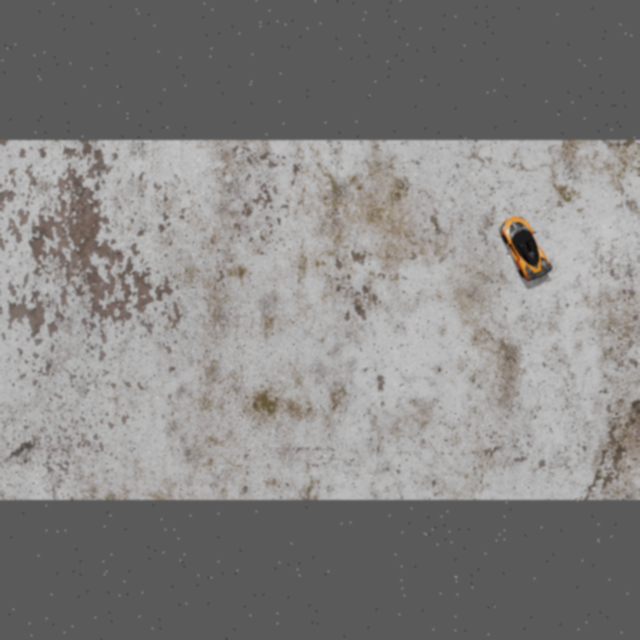car: (494, 209, 556, 284)
